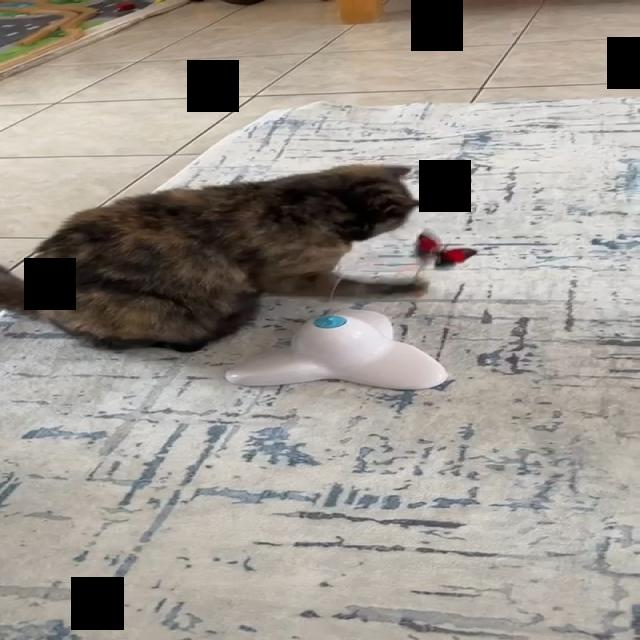authorized: (0, 162, 433, 352)
